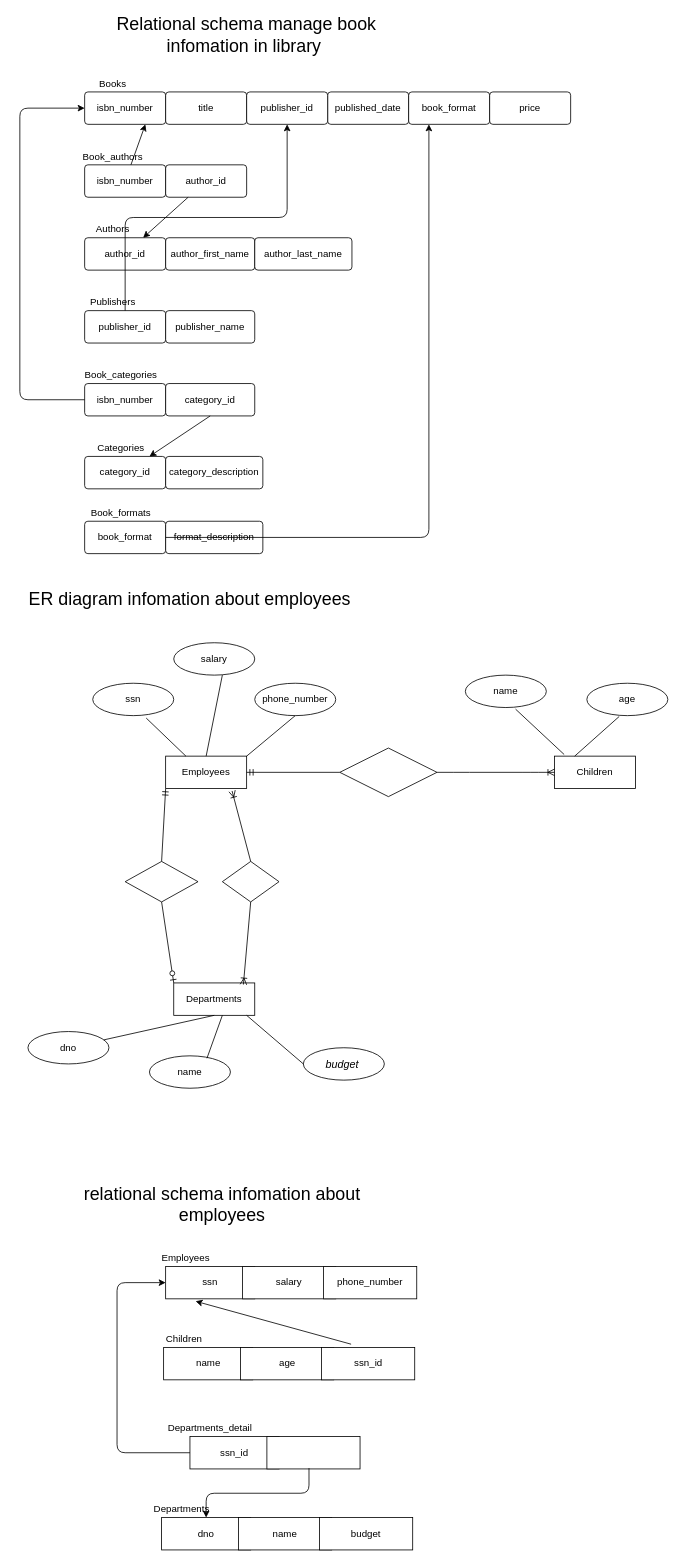
Some shapes in this 682 by 1564 pixel diagram are drawn without their labels. Each missing label, with the centre of its shape:
"dno_id" belongs at (x=313, y=1452).
"have" belongs at (x=388, y=772).
"manage" belongs at (x=161, y=881).
"work" belongs at (x=250, y=881).
